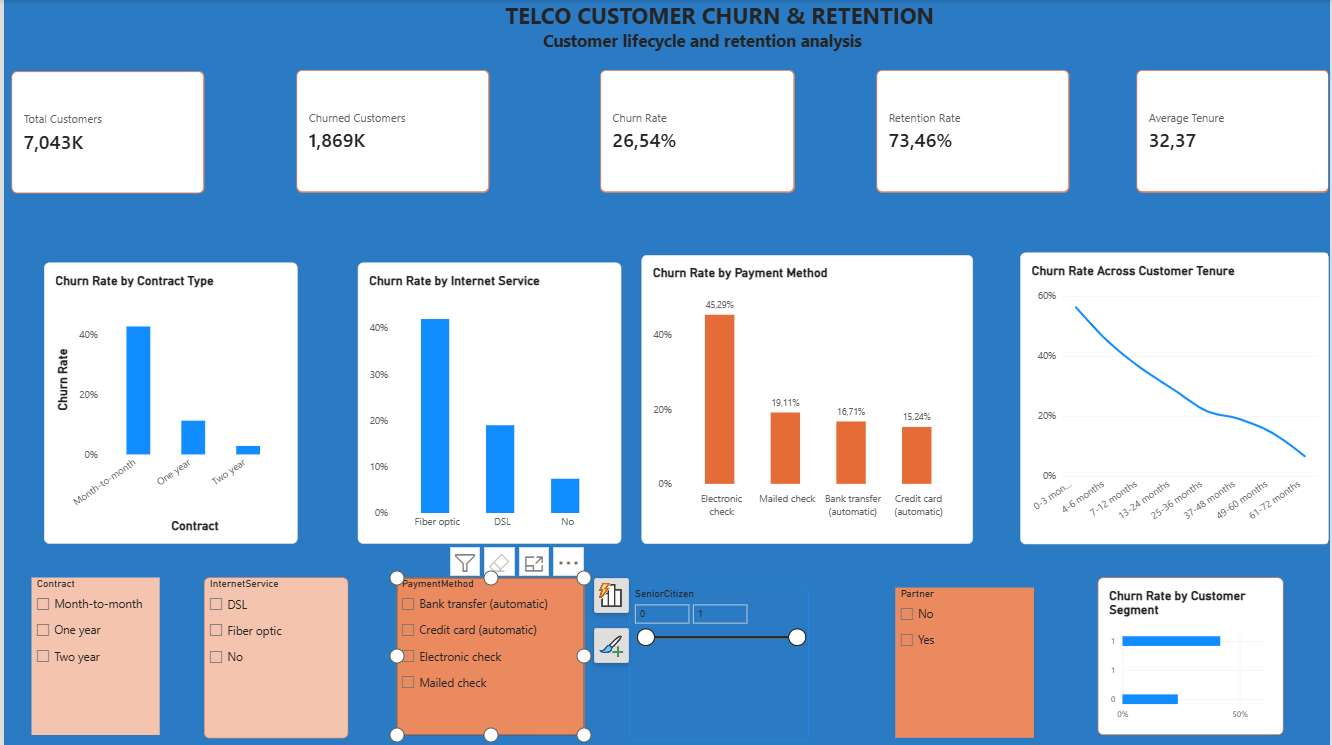

This screenshot's page, from the dashboard's own definition file:
{"tool":"powerbi","page":{"name":"Page 1","canvas":[1920,1080],"ordinal":0},"visuals":[{"type":"cardVisual","fields":{"Data":["Telco.Total Customers"]},"box":[10.7,102.4,279.5,177.1],"z":0},{"type":"cardVisual","fields":{"Data":["Telco.Churned Customers"]},"box":[424.2,101.7,279.2,177.5],"z":1000},{"type":"cardVisual","fields":{"Data":["Telco.Churn Rate"]},"box":[863.5,101.7,281.3,177.5],"z":2000},{"type":"cardVisual","fields":{"Data":["Telco.Retention Rate"]},"box":[1263.9,101.7,279.2,177.5],"z":3000},{"type":"cardVisual","fields":{"Data":["Telco.Average Tenure"]},"box":[1640.4,101.7,279.2,177.5],"z":4000},{"type":"clusteredColumnChart","title":"Churn Rate by Contract Type","fields":{"Category":["Telco.Contract"],"Y":["Telco.Churn Rate"]},"box":[57.6,379.7,366.9,407.5],"z":5000},{"type":"clusteredColumnChart","title":"Churn Rate by Internet Service","fields":{"Category":["Telco.InternetService"],"Y":["Telco.Churn Rate"]},"box":[512,379.7,381.9,407.5],"z":6000},{"type":"clusteredColumnChart","title":"Churn Rate by Payment Method","fields":{"Category":["Telco.PaymentMethod"],"Y":["Telco.Churn Rate"]},"box":[923.7,369.1,480,418.1],"z":7000},{"type":"lineChart","title":"Churn Rate Across Customer Tenure","fields":{"Category":["Telco.Tenure Band"],"Y":["Telco.Churn Rate"]},"box":[1472,364.8,448,422.4],"z":8000},{"type":"slicer","fields":{"Values":["Telco.Contract"]},"box":[40.5,836.3,185.6,228.3],"z":9000},{"type":"slicer","fields":{"Values":["Telco.InternetService"]},"box":[290.1,836.3,209.1,232.5],"z":10000},{"type":"slicer","fields":{"Values":["Telco.PaymentMethod"]},"box":[567.5,836.3,273.1,228.3],"z":11000},{"type":"slicer","fields":{"Values":["Telco.SeniorCitizen"]},"box":[904.5,851.2,260.3,221.9],"z":12000},{"type":"slicer","fields":{"Values":["Telco.Partner"]},"box":[1290.7,851.2,200.5,217.6],"z":13000},{"type":"clusteredBarChart","title":"Churn Rate by Customer Segment","fields":{"Category":["Telco.SeniorCitizen"],"Y":["Telco.Churn Rate"]},"box":[1582.9,836.3,268.8,228.3],"z":14000},{"type":"textbox","box":[703,102,193,177],"z":15000},{"type":"textbox","box":[84.4,0,1406.7,101.7],"z":16000}]}

Visuals, with their boxes in screenshot pixels (x1, y1, x2, y2), scaled from the page's 1920x1080 canvas onto the 1332x745 screenshot:
cardVisual - Telco.Total Customers: BBox(7, 71, 201, 193)
cardVisual - Telco.Churned Customers: BBox(294, 70, 488, 193)
cardVisual - Telco.Churn Rate: BBox(599, 70, 794, 193)
cardVisual - Telco.Retention Rate: BBox(877, 70, 1071, 193)
cardVisual - Telco.Average Tenure: BBox(1138, 70, 1331, 193)
"Churn Rate by Contract Type" clusteredColumnChart: BBox(40, 262, 294, 543)
"Churn Rate by Internet Service" clusteredColumnChart: BBox(355, 262, 620, 543)
"Churn Rate by Payment Method" clusteredColumnChart: BBox(641, 255, 974, 543)
"Churn Rate Across Customer Tenure" lineChart: BBox(1021, 252, 1331, 543)
slicer - Telco.Contract: BBox(28, 577, 157, 734)
slicer - Telco.InternetService: BBox(201, 577, 346, 737)
slicer - Telco.PaymentMethod: BBox(394, 577, 583, 734)
slicer - Telco.SeniorCitizen: BBox(627, 587, 808, 740)
slicer - Telco.Partner: BBox(895, 587, 1035, 737)
"Churn Rate by Customer Segment" clusteredBarChart: BBox(1098, 577, 1285, 734)
textbox: BBox(488, 70, 622, 192)
textbox: BBox(59, 0, 1034, 70)
